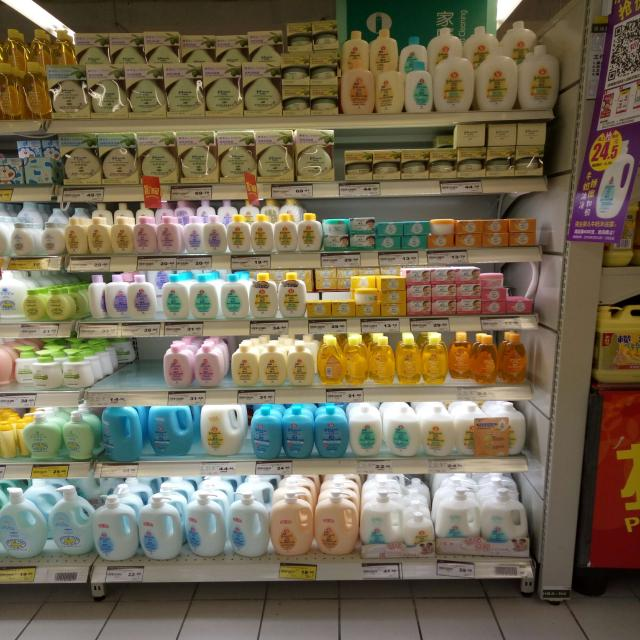void: (96, 342, 160, 388)
